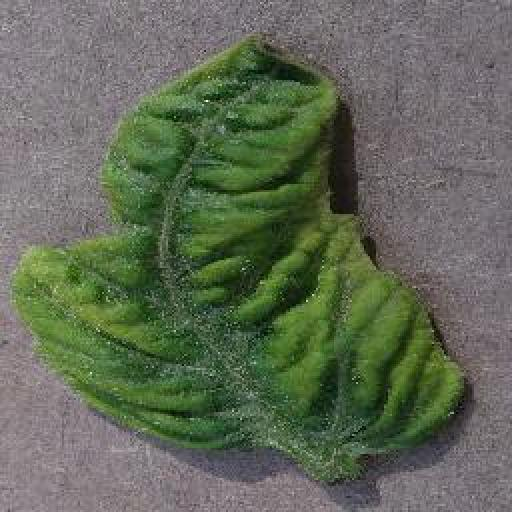disease_tomato: (12, 27, 466, 465)
